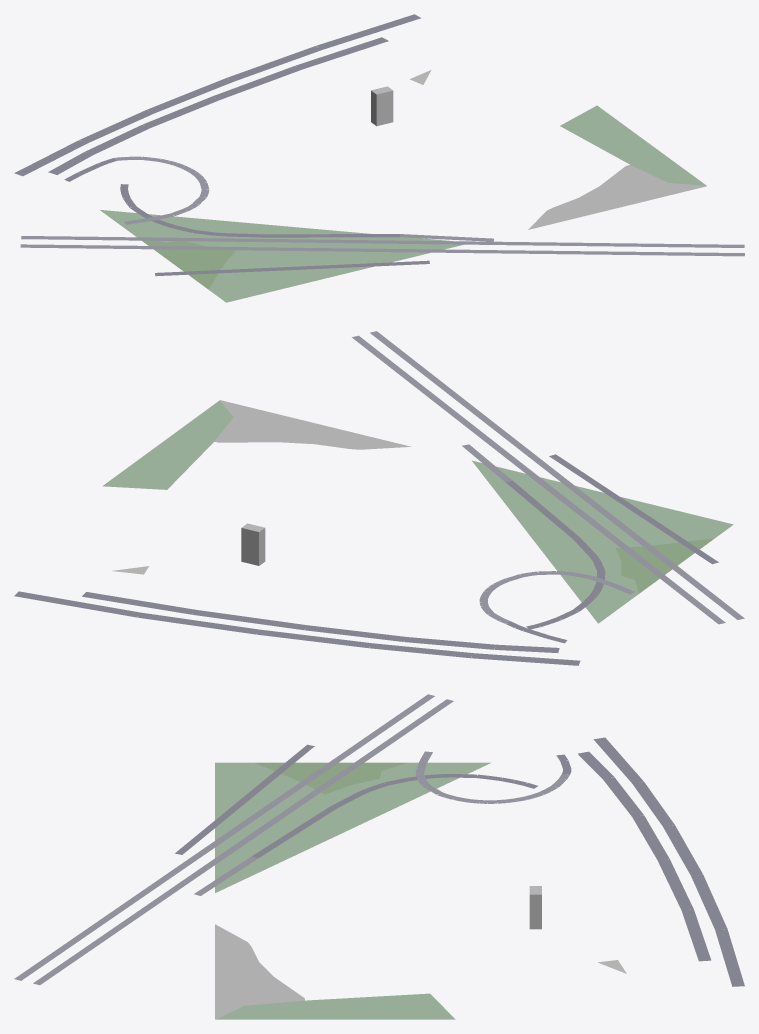
The model's file is 105_85_mid.glb.
3 renders of one model, top to bottom at view 1: azimuth 30°, elevation 25°; view 2: azimuth 150°, elevation 25°; view 3: azimuth 270°, elevation 25°, orthographic. The views are drawn at different scales.
Size of the model in its own units: 612 by 31.91 by 603.
